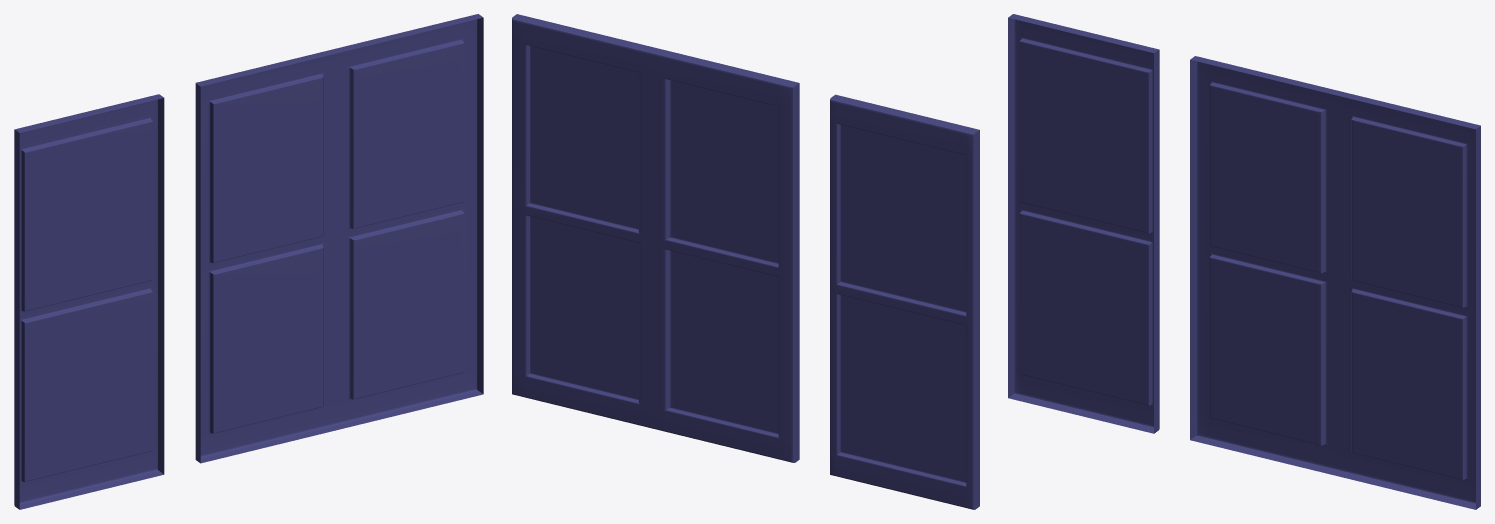
File: Windows_01_low.fbx
3 views of the same model, side by side, from view 1: azimuth 30°, elevation 25°; view 2: azimuth 150°, elevation 25°; view 3: azimuth 330°, elevation 25° (orthographic).
Visible parts, largest first — view 1: Wide_Window_01_low, Skinny_Window_01_low; view 2: Wide_Window_01_low, Skinny_Window_01_low; view 3: Wide_Window_01_low, Skinny_Window_01_low.
Part boxes in pixels (box(x1,y1,x2,y2)): Wide_Window_01_low: box(195, 14, 483, 463); Skinny_Window_01_low: box(14, 94, 164, 509); Wide_Window_01_low: box(512, 14, 799, 462); Skinny_Window_01_low: box(830, 94, 979, 509); Wide_Window_01_low: box(1190, 56, 1480, 509); Skinny_Window_01_low: box(1008, 14, 1159, 433).
Bounding box in the file's own units: 2.94 × 2.3 × 0.0712.
